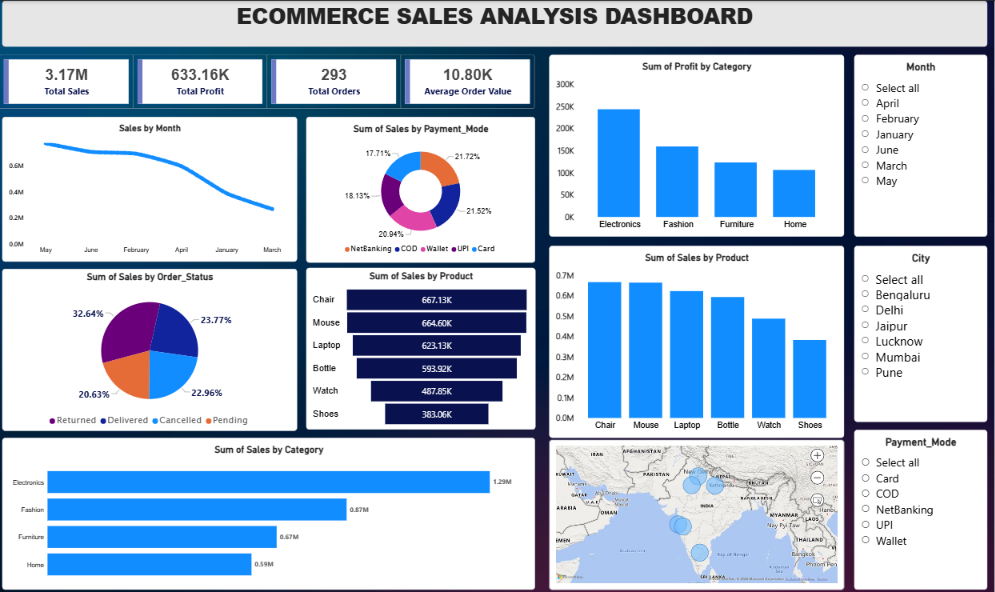

Layout of this report page (visuals, bound fields, positions):
{"tool":"powerbi","page":{"name":"Page 1","canvas":[2500,1500],"ordinal":0},"visuals":[{"type":"cardVisual","fields":{"Data":["Dax Measures.Total Sales","Dax Measures.Total Profit","Dax Measures.Total Orders","Dax Measures.Average Order Value"]},"box":[0,135.6,1348.8,135.6],"z":0},{"type":"textbox","box":[7.5,0,2474.1,115.5],"z":1000},{"type":"lineChart","title":"Sales by Month","fields":{"Category":["ecommerce orders.Month"],"Y":["Sum(ecommerce orders.Sales)"]},"box":[7.5,291.4,741,364.2],"z":2000},{"type":"barChart","fields":{"Category":["ecommerce orders.Category"],"Y":["Sum(ecommerce orders.Sales)"]},"box":[7.5,1097.6,1338.8,381.8],"z":3000},{"type":"columnChart","fields":{"Y":["Sum(ecommerce orders.Sales)"],"Category":["ecommerce orders.Product"]},"box":[1381.5,615.4,741,482.3],"z":4000},{"type":"map","fields":{"Category":["ecommerce orders.City"]},"box":[1381.5,1102.7,741,376.8],"z":5000},{"type":"donutChart","fields":{"Category":["ecommerce orders.Payment_Mode"],"Y":["Sum(ecommerce orders.Sales)"]},"box":[771.1,291.4,575.2,366.7],"z":6000},{"type":"funnel","fields":{"Category":["ecommerce orders.Product"],"Y":["Sum(ecommerce orders.Sales)"]},"box":[771.1,670.6,576,406],"z":7000},{"type":"columnChart","fields":{"Y":["Sum(ecommerce orders.Profit)"],"Category":["ecommerce orders.Category"]},"box":[1381.5,135.6,741,457.1],"z":8000},{"type":"listSlicer","fields":{"Values":["ecommerce orders.Month"]},"box":[2147.6,135.6,334.1,457.1],"z":9000},{"type":"listSlicer","fields":{"Values":["ecommerce orders.City"]},"box":[2147.6,615.4,334.1,442.1],"z":10000},{"type":"listSlicer","fields":{"Values":["ecommerce orders.Payment_Mode"]},"box":[2147.6,1077.6,334.1,401.9],"z":11000},{"type":"pieChart","fields":{"Category":["ecommerce orders.Order_Status"],"Y":["Sum(ecommerce orders.Sales)"]},"box":[7.5,673.2,741,407],"z":12000}]}

Visuals, with their boxes in screenshot pixels (x1, y1, x2, y2), scaled from the page's 2500x1500 canvas onto the 995x592 screenshot:
cardVisual - Dax Measures.Total Sales x Dax Measures.Total Profit: region(0, 54, 537, 107)
textbox: region(3, 0, 988, 46)
"Sales by Month" lineChart: region(3, 115, 298, 259)
barChart - ecommerce orders.Category x Sum(ecommerce orders.Sales): region(3, 433, 536, 584)
columnChart - Sum(ecommerce orders.Sales) x ecommerce orders.Product: region(550, 243, 845, 433)
map - ecommerce orders.City: region(550, 435, 845, 584)
donutChart - ecommerce orders.Payment_Mode x Sum(ecommerce orders.Sales): region(307, 115, 536, 260)
funnel - ecommerce orders.Product x Sum(ecommerce orders.Sales): region(307, 265, 536, 425)
columnChart - Sum(ecommerce orders.Profit) x ecommerce orders.Category: region(550, 54, 845, 234)
listSlicer - ecommerce orders.Month: region(855, 54, 988, 234)
listSlicer - ecommerce orders.City: region(855, 243, 988, 417)
listSlicer - ecommerce orders.Payment_Mode: region(855, 425, 988, 584)
pieChart - ecommerce orders.Order_Status x Sum(ecommerce orders.Sales): region(3, 266, 298, 426)
